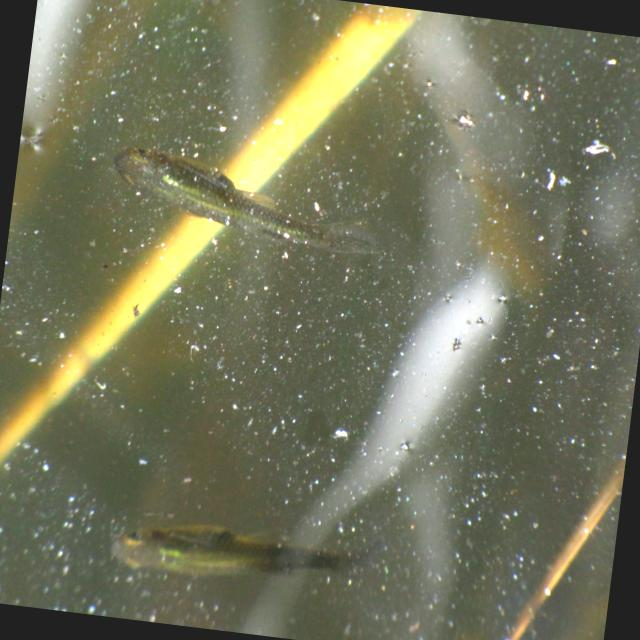Sivrisinek Baligi: (98, 130, 375, 272), (109, 498, 352, 606)
